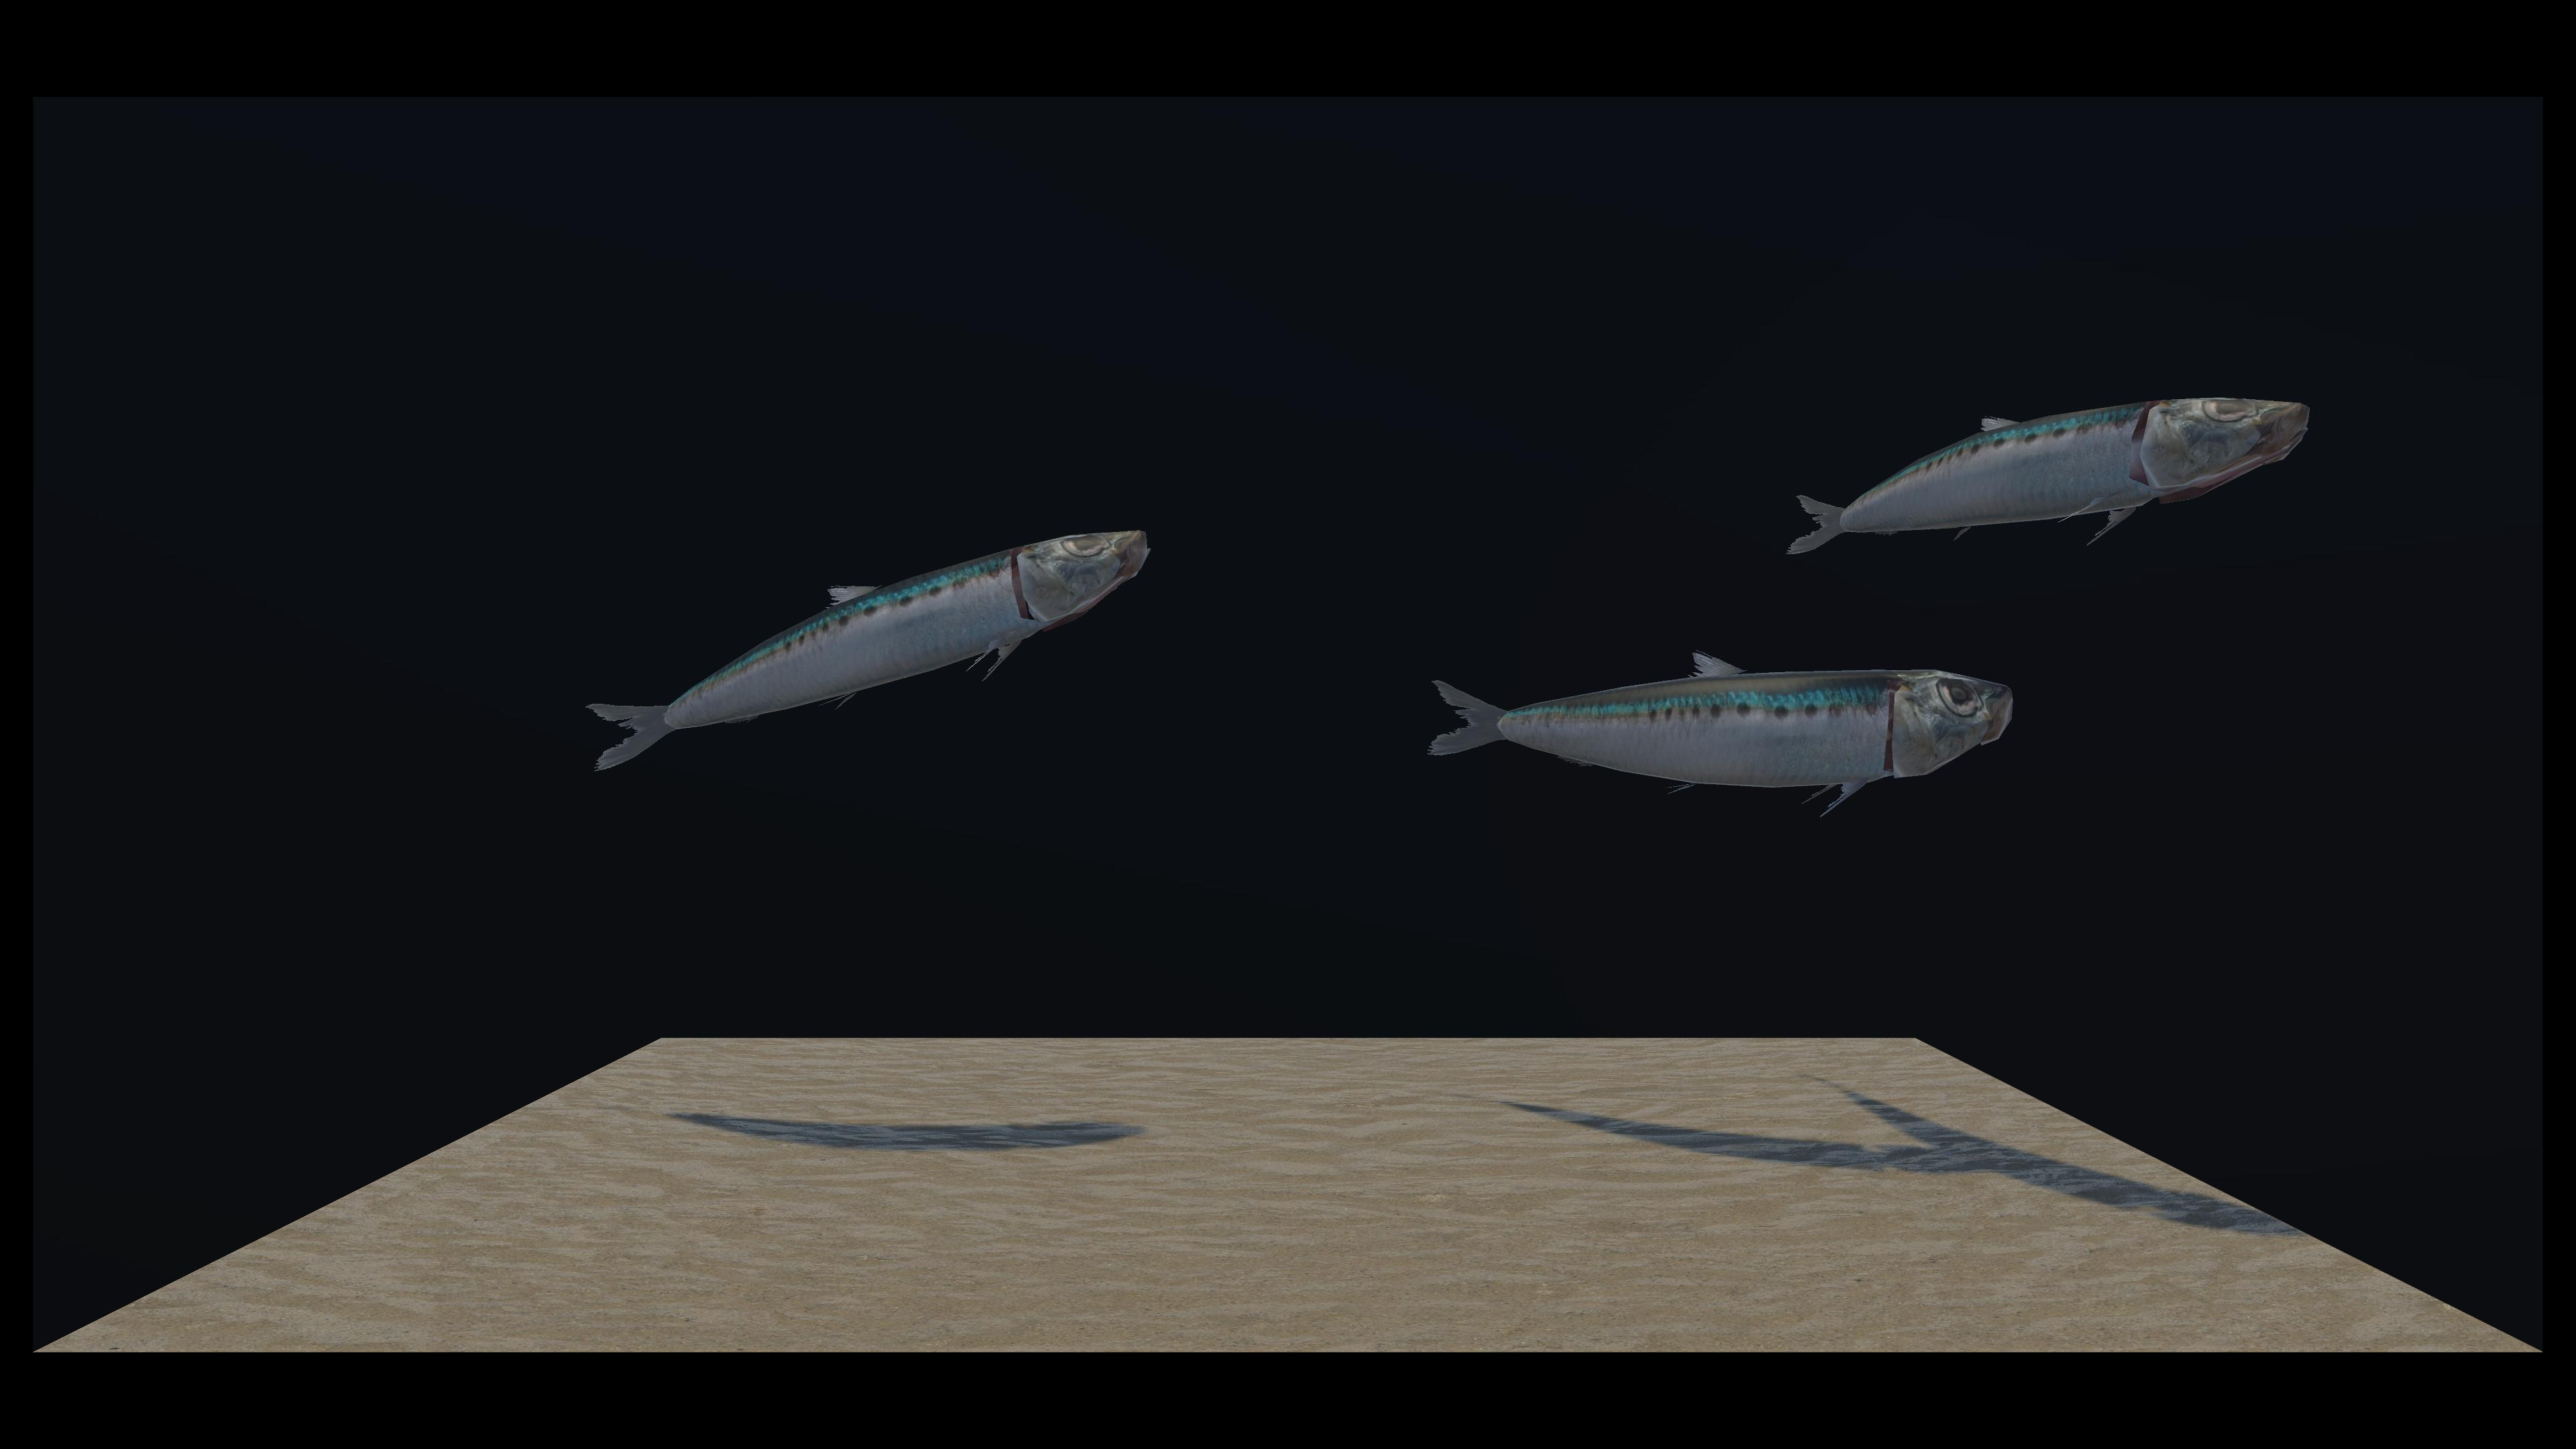Sardine_Front: (780, 320, 2005, 821), (918, 368, 2302, 556), (594, 467, 1138, 770)
